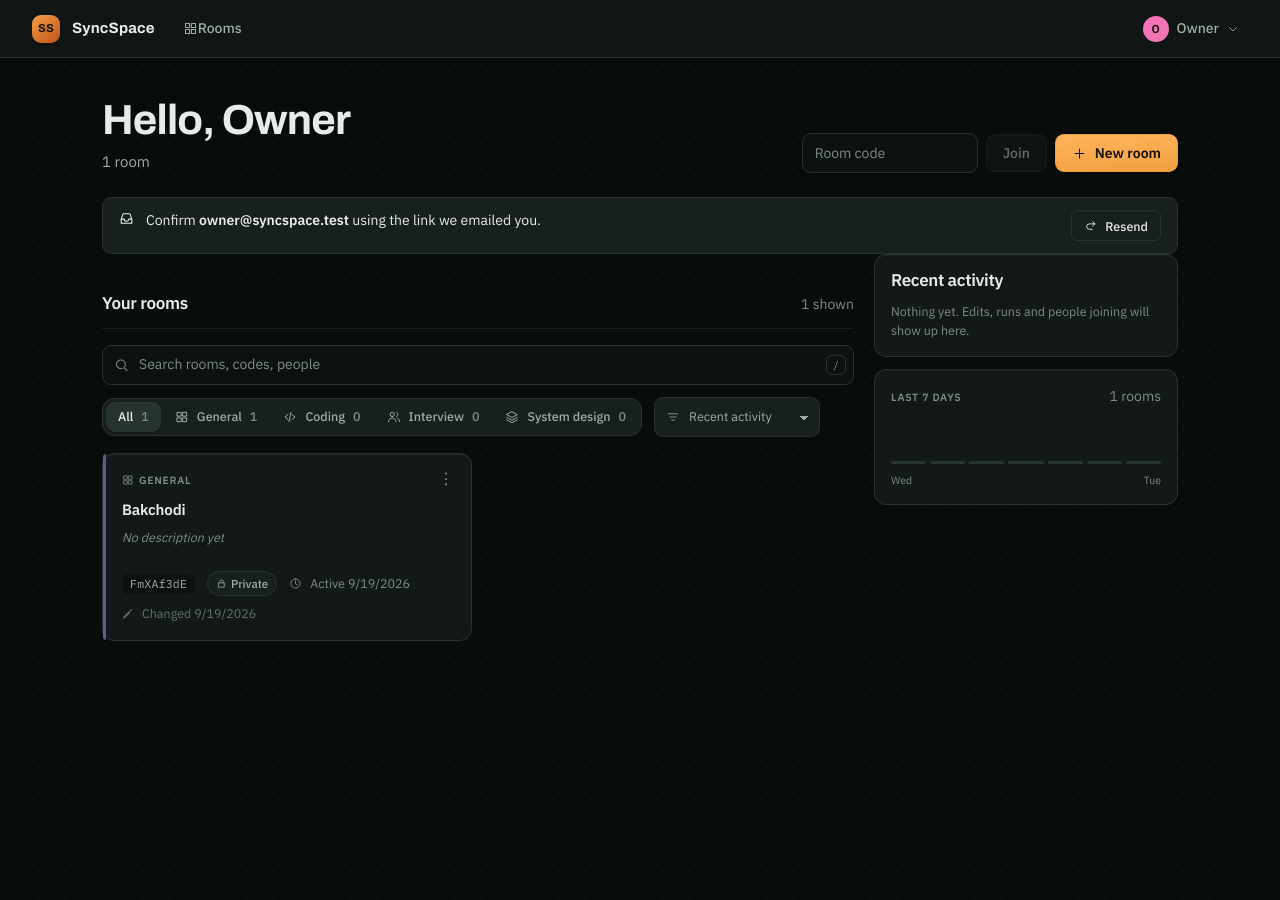
Test: dashboard room management › asks for confirmation before deleting, and does nothing on cancel
Expected: the text "Bakchodi" is shown, [122,498,186,521]
Click the button named "Manage Bakchodi": (446, 479) [429,462,463,496]
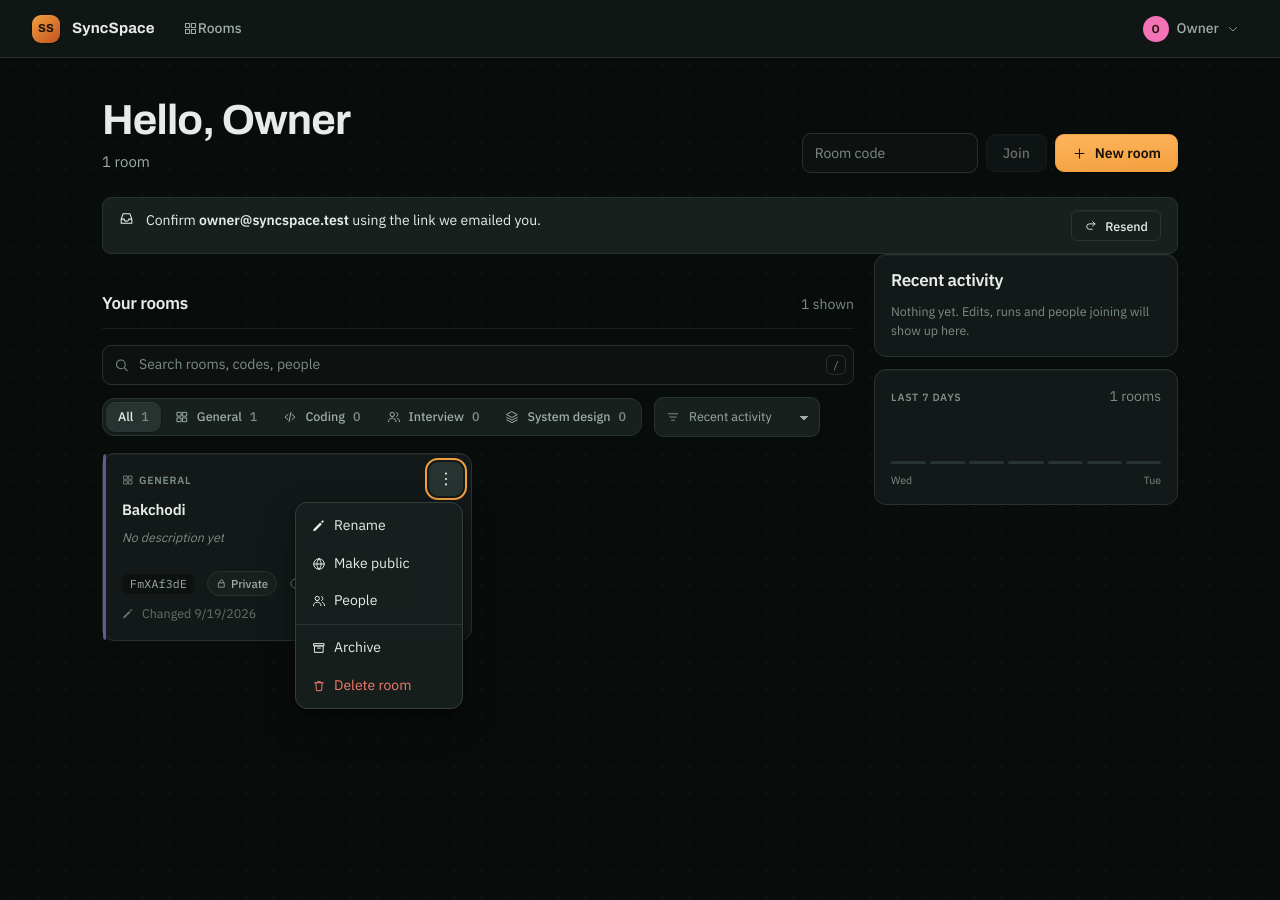
Click the menu item "Delete room": (379, 686) [300,667,458,704]
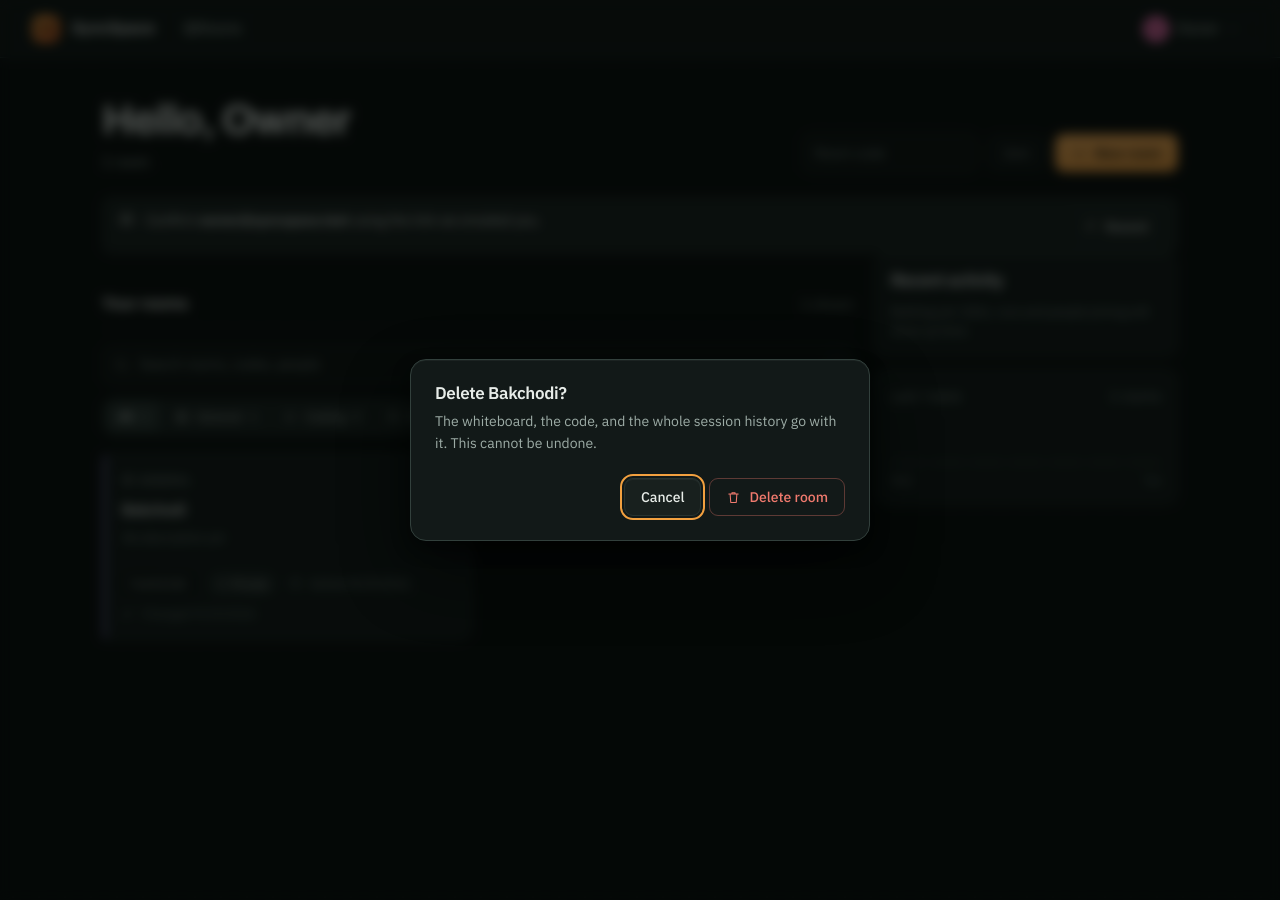
Expected: the text "cannot be undone" is shown, [435,412,836,452]
Click the button "Cancel": (663, 497) [624,478,701,516]
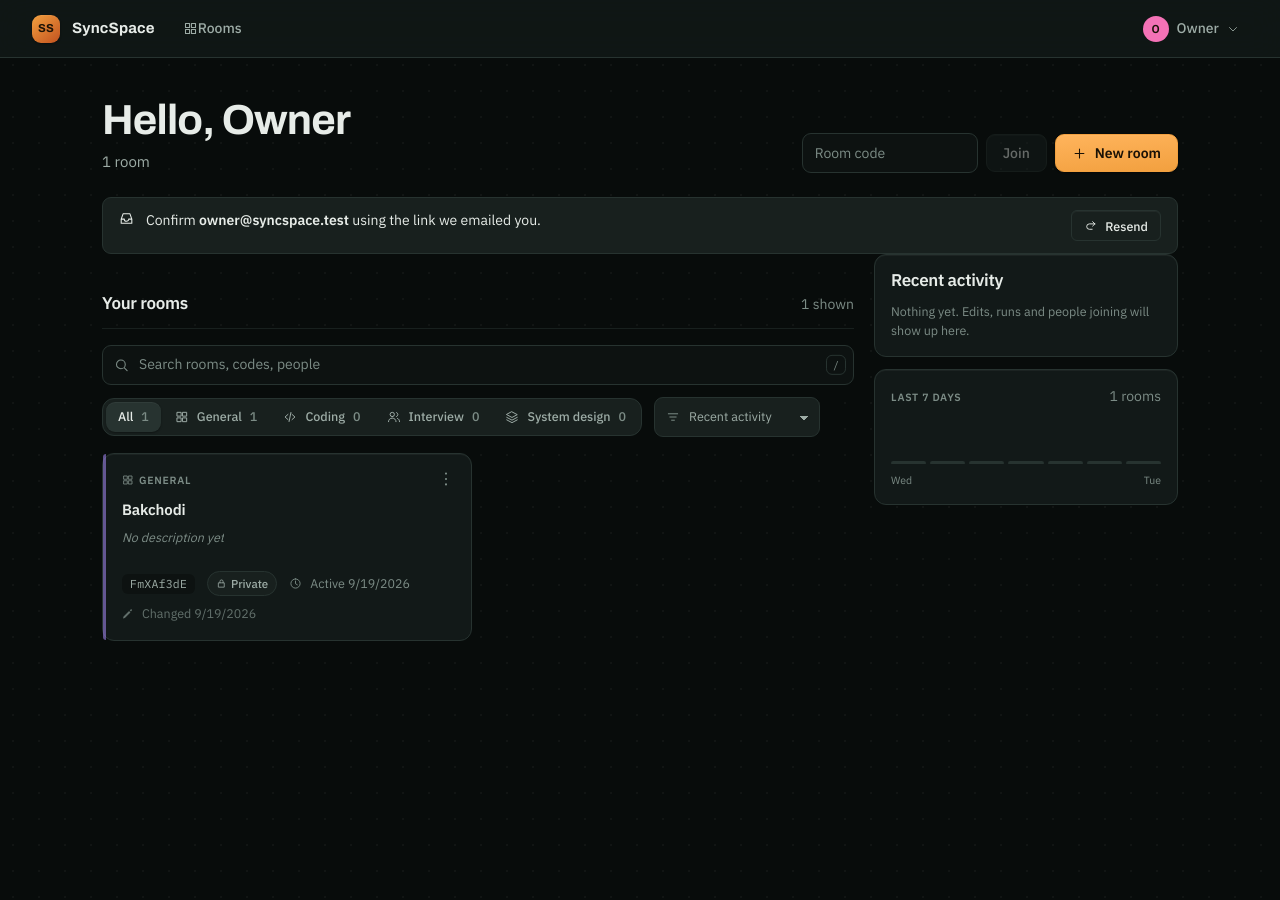
Expected: the text "Bakchodi" is shown, [122,498,186,521]
Expected: the dialog is gone
